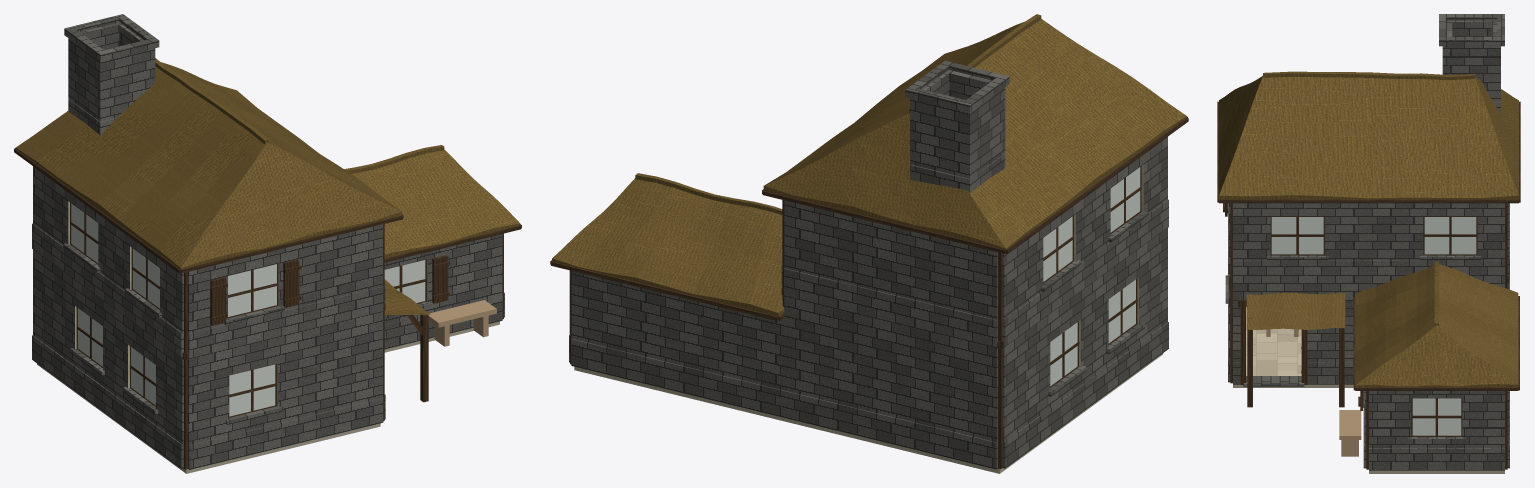
File: kitchen-character.glb
3 renders of one model, left to right at view 1: azimuth 30°, elevation 25°; view 2: azimuth 150°, elevation 25°; view 3: azimuth 270°, elevation 25°, orthographic. The views are drawn at different scales.
Parts seen in each view (by area): view 1: Kitchen_Roof_0, Kitchen_Shell_0, Kitchen_GroundFront_0, Kitchen_UpperShell_0, Kitchen_UpperShell_1, Kitchen_Chimney_0, Kitchen_Shell_1, Kitchen_GroundFront_1, Kitchen_UpperShell_3, Kitchen_Glazing_0, Kitchen_Shell_2, Kitchen_Roof_1 (+6 smaller); view 2: Kitchen_Roof_0, Kitchen_Shell_1, Kitchen_Shell_0, Kitchen_UpperShell_0, Kitchen_UpperShell_1, Kitchen_Chimney_0, Kitchen_Roof_1, Kitchen_UpperShell_3, Kitchen_Glazing_0, Kitchen_Floor_0, Kitchen_Shell_2, Kitchen_UpperShell_2; view 3: Kitchen_Roof_0, Kitchen_UpperShell_0, Kitchen_UpperShell_1, Kitchen_Shell_0, Kitchen_Chimney_0, Kitchen_GroundFront_0, Kitchen_Shell_1, Kitchen_UpperShell_3, Kitchen_Roof_1, Kitchen_Shell_2, Kitchen_Floor_Flags, Kitchen_Glazing_0 (+6 smaller).
Part boxes in pixels (bbox=[...]): Kitchen_Roof_0: bbox=[15, 58, 520, 315]; Kitchen_Shell_0: bbox=[33, 234, 502, 468]; Kitchen_GroundFront_0: bbox=[188, 311, 382, 469]; Kitchen_UpperShell_0: bbox=[33, 166, 382, 356]; Kitchen_UpperShell_1: bbox=[32, 223, 385, 358]; Kitchen_Chimney_0: bbox=[64, 14, 159, 135]; Kitchen_Shell_1: bbox=[32, 292, 504, 468]; Kitchen_GroundFront_1: bbox=[188, 394, 385, 469]; Kitchen_UpperShell_3: bbox=[71, 203, 276, 316]; Kitchen_Glazing_0: bbox=[78, 260, 425, 404]; Kitchen_Shell_2: bbox=[76, 233, 503, 469]; Kitchen_Roof_1: bbox=[14, 148, 521, 273]; Kitchen_Roof_0: bbox=[552, 14, 1186, 316]; Kitchen_Shell_1: bbox=[569, 295, 1168, 469]; Kitchen_Shell_0: bbox=[569, 227, 1167, 468]; Kitchen_UpperShell_0: bbox=[782, 137, 1167, 346]; Kitchen_UpperShell_1: bbox=[781, 199, 1168, 346]; Kitchen_Chimney_0: bbox=[905, 60, 1009, 192]; Kitchen_Roof_1: bbox=[550, 116, 1188, 320]; Kitchen_UpperShell_3: bbox=[1043, 167, 1140, 281]; Kitchen_Glazing_0: bbox=[1050, 279, 1135, 385]; Kitchen_Floor_0: bbox=[574, 353, 1163, 473]; Kitchen_Shell_2: bbox=[570, 270, 1137, 468]; Kitchen_UpperShell_2: bbox=[781, 166, 1168, 348]; Kitchen_Roof_0: bbox=[1219, 71, 1518, 391]; Kitchen_UpperShell_0: bbox=[1228, 203, 1509, 269]; Kitchen_UpperShell_1: bbox=[1227, 203, 1509, 282]; Kitchen_Shell_0: bbox=[1364, 283, 1509, 468]; Kitchen_Chimney_0: bbox=[1439, 14, 1504, 113]; Kitchen_GroundFront_0: bbox=[1228, 270, 1368, 382]; Kitchen_Shell_1: bbox=[1363, 270, 1509, 470]; Kitchen_UpperShell_3: bbox=[1271, 217, 1476, 254]; Kitchen_Roof_1: bbox=[1217, 101, 1520, 390]; Kitchen_Shell_2: bbox=[1230, 271, 1507, 469]; Kitchen_Floor_Flags: bbox=[1246, 307, 1301, 375]; Kitchen_Glazing_0: bbox=[1412, 398, 1461, 435].
Size of the model in its own units: 12.92 by 9.74 by 8.94.
Materials: 19 (4 with a texture image).
